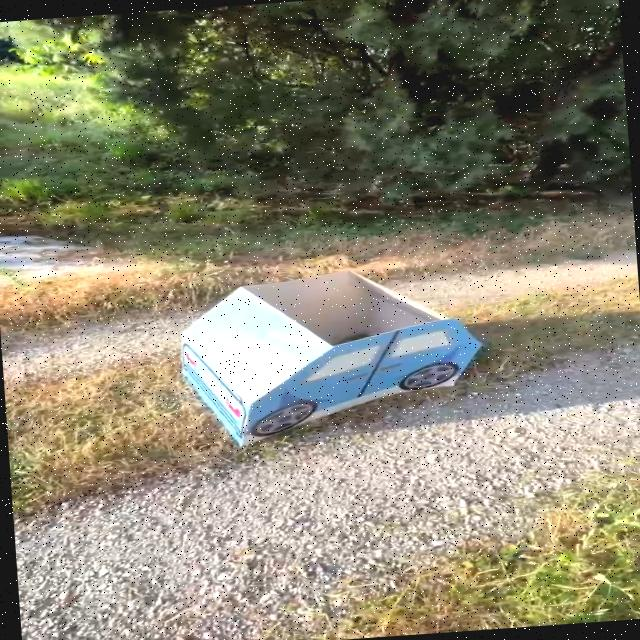blue_car: (140, 239, 507, 483)
